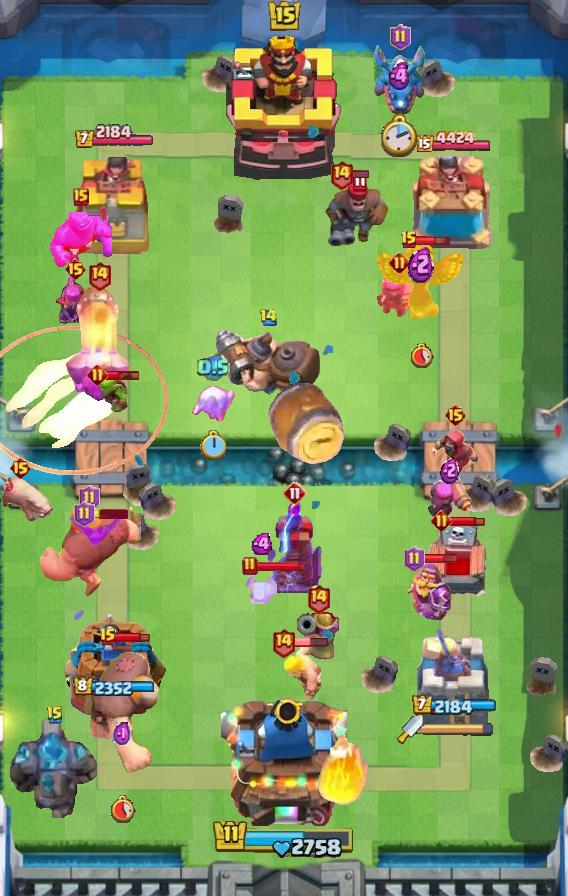archer: (281, 644, 323, 700)
balloon: (84, 636, 160, 776), (37, 501, 141, 601)
bar: (414, 623, 492, 731)
barbarian: (70, 511, 122, 549)
bomb-tower: (297, 607, 339, 675)
bowler: (430, 428, 480, 478)
cannoneer-tower: (10, 715, 100, 819)
clock: (212, 818, 356, 860)
dirt: (265, 380, 347, 466)
electro-spirit: (408, 245, 434, 284), (198, 353, 231, 382), (386, 61, 414, 90), (251, 533, 275, 555), (440, 457, 459, 484), (113, 720, 131, 747)
elixir: (381, 113, 419, 159), (109, 794, 136, 823), (200, 430, 226, 460), (410, 342, 435, 368)
elixir-golem-mid: (423, 519, 493, 605)
emote: (256, 559, 308, 572), (417, 233, 452, 246), (105, 369, 141, 381), (293, 636, 329, 648), (451, 515, 486, 527), (114, 631, 149, 643), (422, 553, 458, 564), (92, 509, 128, 519), (351, 169, 370, 179)
evolution-symbol: (48, 272, 102, 330)
firecracker-evolution: (407, 562, 452, 621)
furnace: (65, 283, 133, 403)
giant: (0, 475, 58, 525)
golden-knight: (373, 243, 469, 321)
graveyard: (371, 42, 429, 116)
ice-spirit-evolution: (241, 568, 285, 604)
ice-spirit-evolution-symbol: (265, 499, 325, 595)
ice-wizard: (0, 326, 168, 475)
king-tower: (226, 33, 342, 181), (221, 690, 347, 826)
king-tower-bar: (423, 722, 495, 736)
mirror: (188, 384, 238, 422)
phoenix-small: (322, 171, 390, 249)
queen-tower: (62, 613, 166, 731), (407, 156, 499, 256), (71, 154, 157, 256)
selected: (73, 124, 154, 150), (416, 129, 493, 154), (412, 695, 497, 717), (73, 677, 155, 699)
text: (330, 158, 355, 189), (87, 261, 112, 292), (305, 583, 330, 614), (272, 627, 296, 658), (283, 481, 307, 505), (65, 257, 88, 281), (445, 403, 468, 427), (8, 456, 31, 480), (389, 24, 410, 50), (80, 485, 101, 511), (73, 501, 94, 527), (403, 546, 424, 572), (431, 509, 453, 531), (389, 252, 410, 273), (87, 364, 108, 385), (258, 309, 278, 328), (400, 230, 418, 250), (99, 627, 117, 647), (46, 705, 64, 725), (242, 556, 258, 576), (73, 188, 89, 206)
tombstone: (425, 471, 474, 523), (377, 267, 422, 317)
tornado: (50, 208, 112, 268)
valkyrie: (315, 720, 375, 810)
wizard: (212, 327, 324, 397)
zap: (95, 372, 129, 416)
